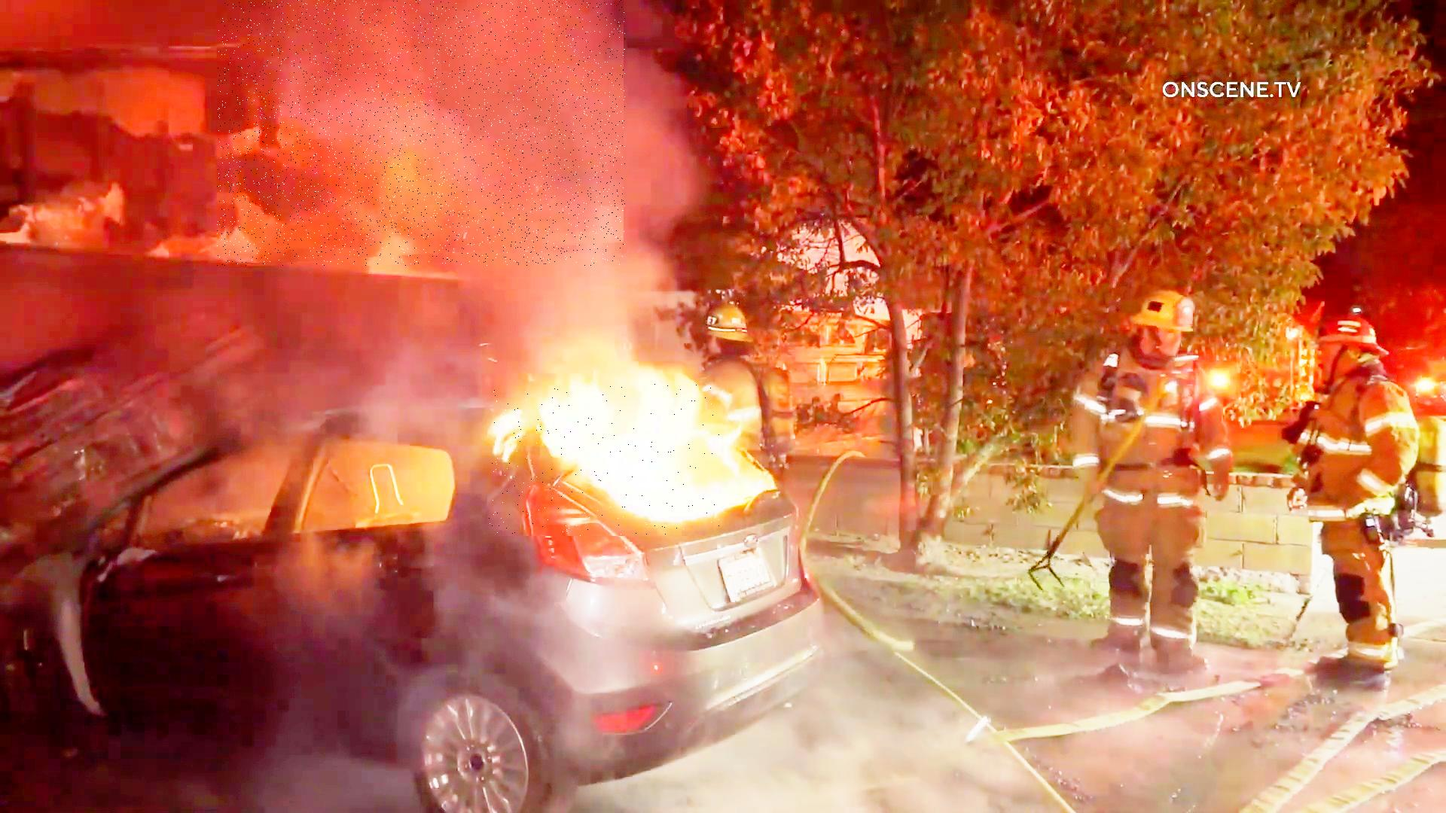fire: (487, 384, 719, 536)
smoke: (218, 0, 626, 266)
